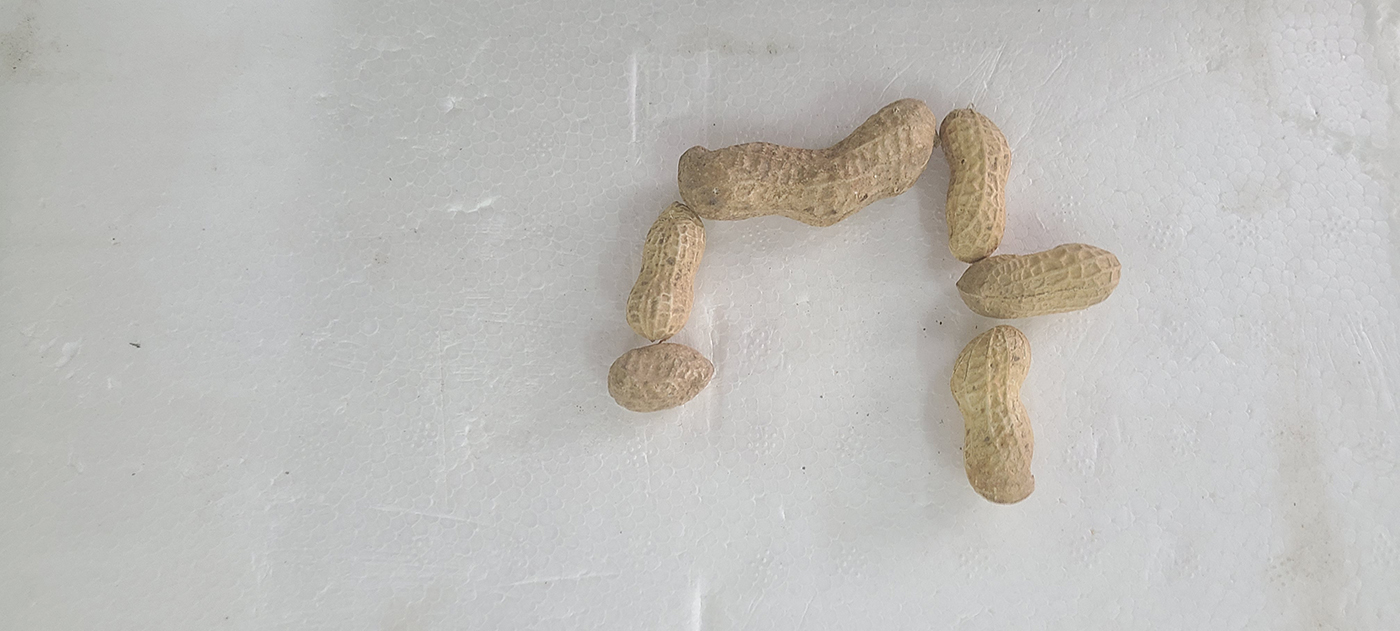h: (676, 97, 936, 227), (949, 327, 1038, 504), (955, 243, 1122, 319), (940, 108, 1011, 262), (627, 204, 706, 341)
l: (609, 342, 714, 412)
